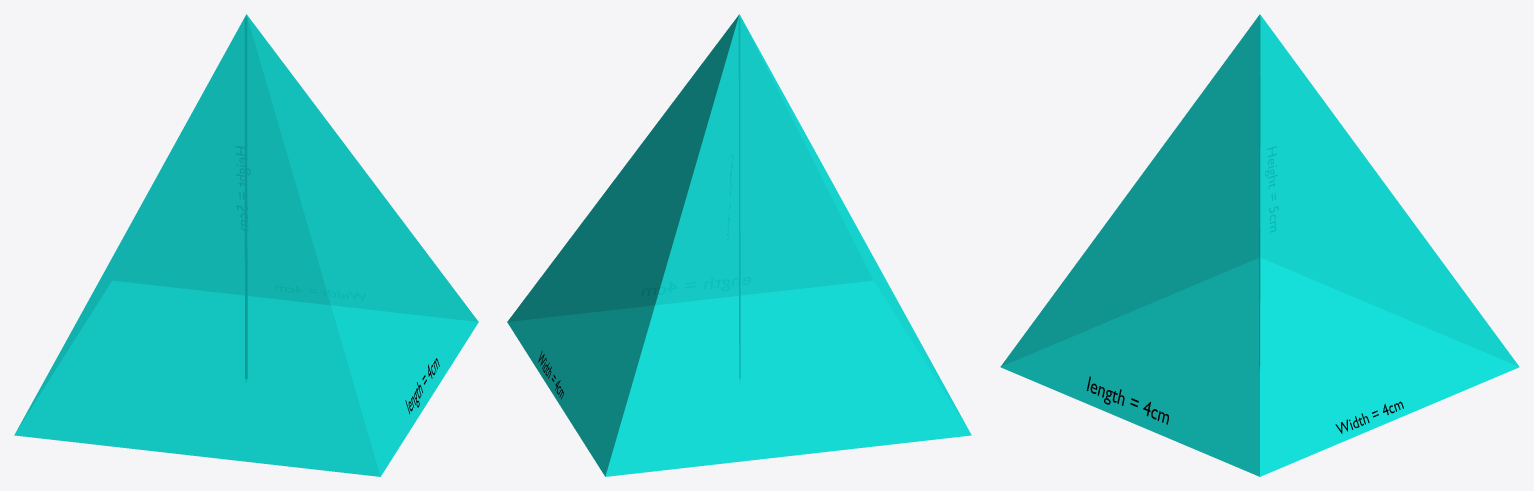
The picture shows the model from 3 angles, left to right: view 1: azimuth 30°, elevation 25°; view 2: azimuth 150°, elevation 25°; view 3: azimuth 270°, elevation 25°; orthographic projection. The views are drawn at different scales.
Parts seen in each view (by area): view 1: Cone, Plane; view 2: Cone; view 3: Cone.
Part boxes in pixels (x1,y1,x2,y2): Cone: [14, 14, 478, 476]; Plane: [245, 18, 246, 378]; Cone: [507, 14, 971, 476]; Cone: [1000, 14, 1519, 476].
Bounding box in the file's own units: 0.4 × 0.3032 × 0.4.
